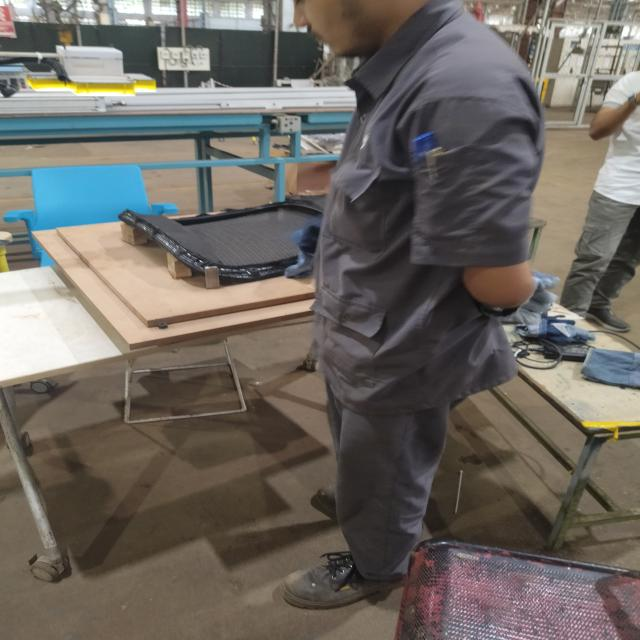Gloves-Detection: (299, 228, 310, 274)
